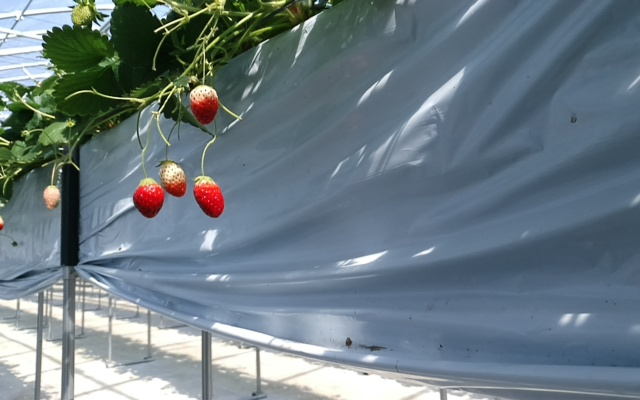GreenStrawberry: (159, 161, 188, 198), (43, 184, 60, 212), (71, 6, 95, 25)
MatureStrawberry: (193, 176, 225, 220), (188, 84, 220, 127), (133, 178, 165, 220)
